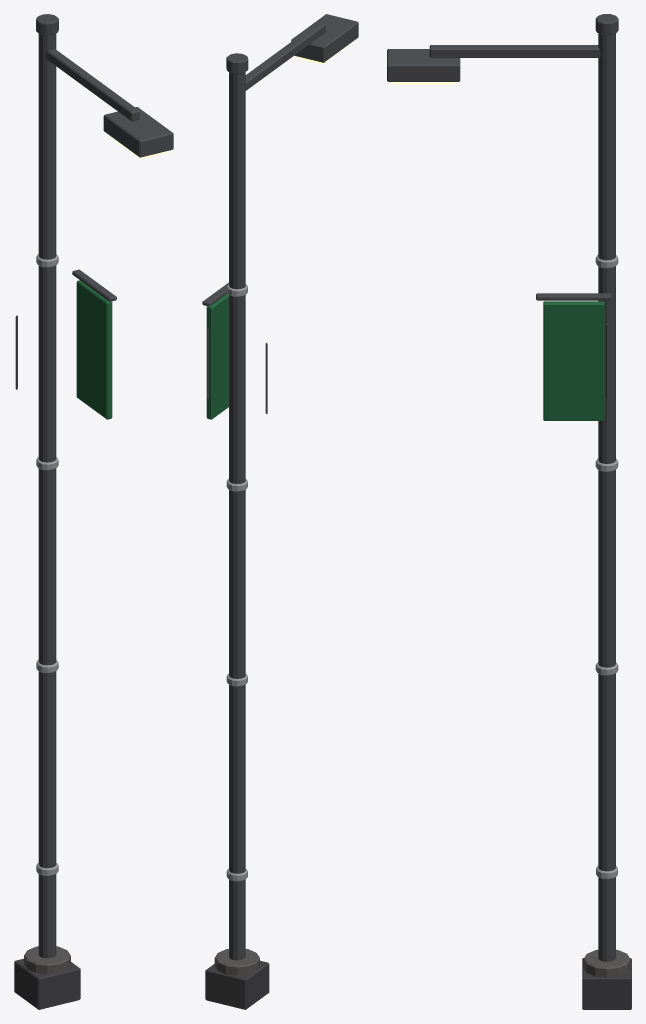
File: PRP_LampPost_ML_v001.glb
The picture shows the model from 3 angles, left to right: view 1: azimuth 30°, elevation 25°; view 2: azimuth 150°, elevation 25°; view 3: azimuth 270°, elevation 25°; orthographic projection. The views are drawn at different scales.
Parts seen in each view (by area): view 1: PRP_LampPost_ML_v001; view 2: PRP_LampPost_ML_v001; view 3: PRP_LampPost_ML_v001.
Boxes of the visible parts, box(x1,y1,x2,y2) form: PRP_LampPost_ML_v001: box(14, 14, 173, 1009); PRP_LampPost_ML_v001: box(202, 14, 358, 1009); PRP_LampPost_ML_v001: box(387, 14, 631, 1009).
Size of the model in its own units: 0.65 by 9.16 by 2.07.
